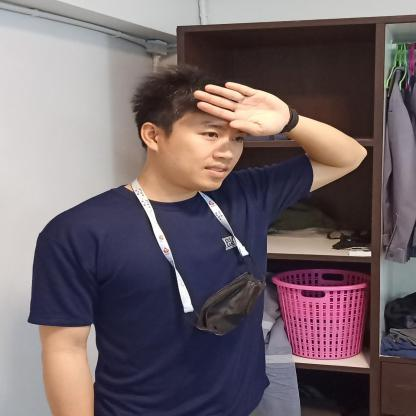Sick: (86, 74, 338, 166)
